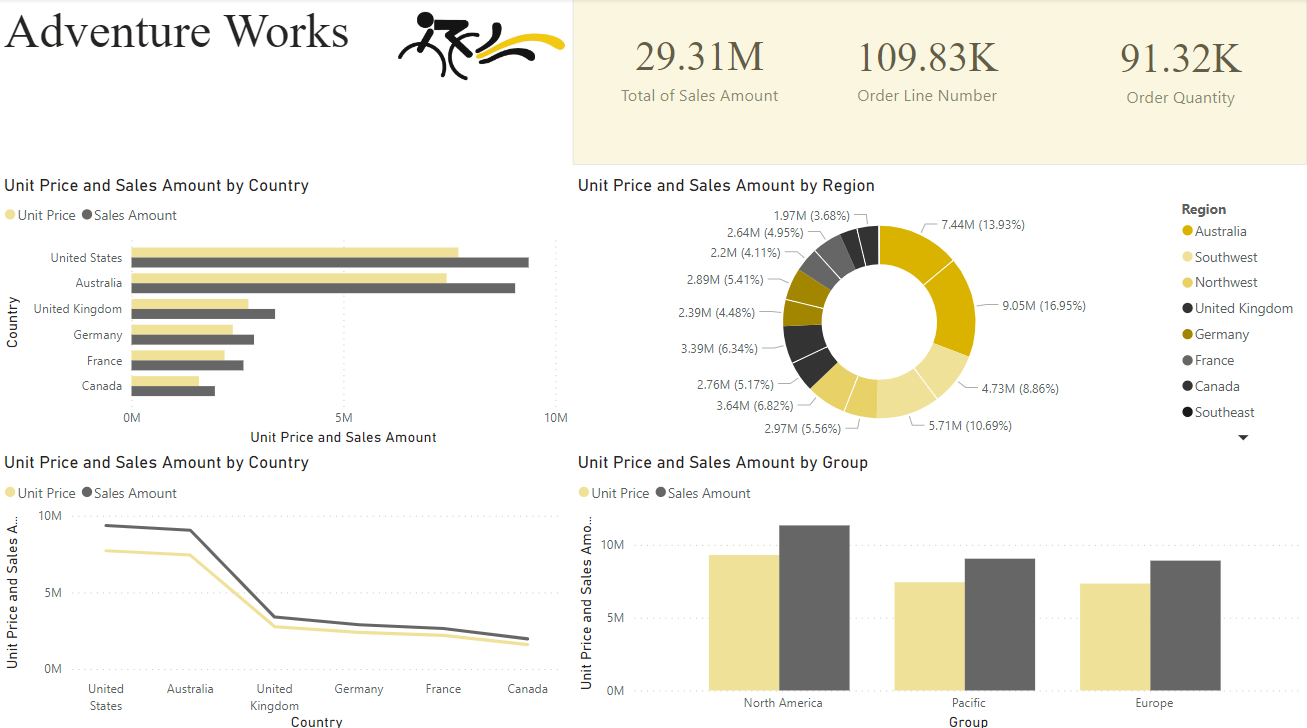

What the dashboard file says about the page in this screenshot:
{"tool":"powerbi","page":{"name":"Page 1","canvas":[1280,720],"ordinal":0},"visuals":[{"type":"card","fields":{"Values":["Sum(Sales.OrderQuantity)"]},"box":[1031.9,2.7,248.4,130.4],"z":0},{"type":"card","fields":{"Values":["Sum(Sales.SalesOrderLineNumber)"]},"box":[783.5,0,248.4,133.1],"z":1000},{"type":"card","fields":{"Values":["Sum(Sales.SalesAmount)"]},"box":[561.2,0,248.4,131.7],"z":2000},{"type":"shape","box":[561.2,0,719,163.3],"z":3000},{"type":"textbox","box":[0,0,423,211.5],"z":4000},{"type":"image","box":[376.5,0,184.6,95.3],"z":5000},{"type":"clusteredBarChart","fields":{"Y":["Sum(Sales.UnitPrice)","Sum(Sales.Sales Amount)"],"Category":["Territories.Country"]},"box":[0,172.9,561.2,270.3],"z":5001},{"type":"donutChart","fields":{"Category":["Territories.Region"],"Y":["Sum(Sales.UnitPrice)","Sum(Sales.Sales Amount)"]},"box":[561.2,172.9,719,270.3],"z":5002},{"type":"lineChart","fields":{"Category":["Territories.Country"],"Y":["Sum(Sales.UnitPrice)","Sum(Sales.Sales Amount)"]},"box":[0,443.2,561.2,277.2],"z":5003},{"type":"lineClusteredColumnComboChart","fields":{"Y":["Sum(Sales.UnitPrice)","Sum(Sales.Sales Amount)"],"Category":["Territories.Group"]},"box":[561.2,443.2,719,277.2],"z":5004}]}

Visuals, with their boxes in screenshot pixels (x1, y1, x2, y2), scaled from the page's 1280x720 canvas onto the 1307x728 screenshot:
card - Sum(Sales.OrderQuantity): box=[1054, 3, 1306, 135]
card - Sum(Sales.SalesOrderLineNumber): box=[800, 0, 1054, 135]
card - Sum(Sales.SalesAmount): box=[573, 0, 827, 133]
shape: box=[573, 0, 1306, 165]
textbox: box=[0, 0, 432, 214]
image: box=[384, 0, 573, 96]
clusteredBarChart - Sum(Sales.UnitPrice) x Sum(Sales.Sales Amount): box=[0, 175, 573, 448]
donutChart - Territories.Region x Sum(Sales.UnitPrice): box=[573, 175, 1306, 448]
lineChart - Territories.Country x Sum(Sales.UnitPrice): box=[0, 448, 573, 727]
lineClusteredColumnComboChart - Sum(Sales.UnitPrice) x Sum(Sales.Sales Amount): box=[573, 448, 1306, 727]
